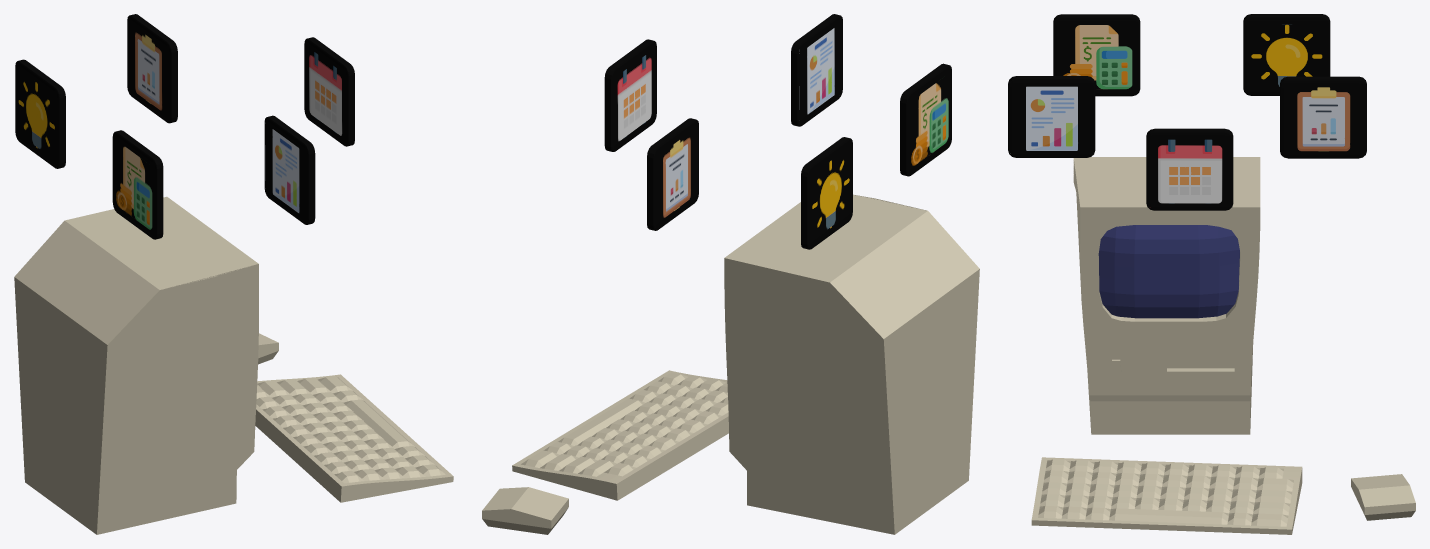
Rendered from computer.glb.
The picture shows the model from 3 angles, left to right: view 1: azimuth 30°, elevation 25°; view 2: azimuth 150°, elevation 25°; view 3: azimuth 270°, elevation 25°; orthographic projection. The views are drawn at different scales.
Visible parts, largest first — view 1: computer, keyboard, Cube.001, Cube.002, Cube.004, Cube.003, Cube.005; view 2: computer, keyboard, Cube.003, Cube.002, Cube.004, Cube.005, Cube.001, mouse; view 3: computer, keyboard, Cube.003, Cube.002, Cube.004, Cube.001, Cube.005, mouse.
Part boxes in pixels (<box>): computer: <box>14,196,258,534</box>; keyboard: <box>255,374,453,502</box>; Cube.001: <box>112,130,163,239</box>; Cube.002: <box>264,115,315,224</box>; Cube.004: <box>127,14,177,123</box>; Cube.003: <box>304,37,354,146</box>; Cube.005: <box>15,59,65,168</box>; computer: <box>724,194,979,534</box>; keyboard: <box>512,370,728,500</box>; Cube.003: <box>604,39,656,151</box>; Cube.002: <box>791,14,842,126</box>; Cube.004: <box>647,118,698,230</box>; Cube.005: <box>801,137,852,249</box>; Cube.001: <box>900,63,951,176</box>; mouse: <box>482,487,568,534</box>; computer: <box>1073,157,1260,434</box>; keyboard: <box>1031,457,1302,534</box>; Cube.003: <box>1146,128,1233,210</box>; Cube.002: <box>1008,76,1095,157</box>; Cube.004: <box>1280,76,1366,158</box>; Cube.001: <box>1053,14,1140,96</box>; Cube.005: <box>1243,14,1330,95</box>; mouse: <box>1351,474,1415,520</box>.
Size of the model in its own units: 4.47 by 4.74 by 4.68.
Materials: 7 (5 with a texture image).
